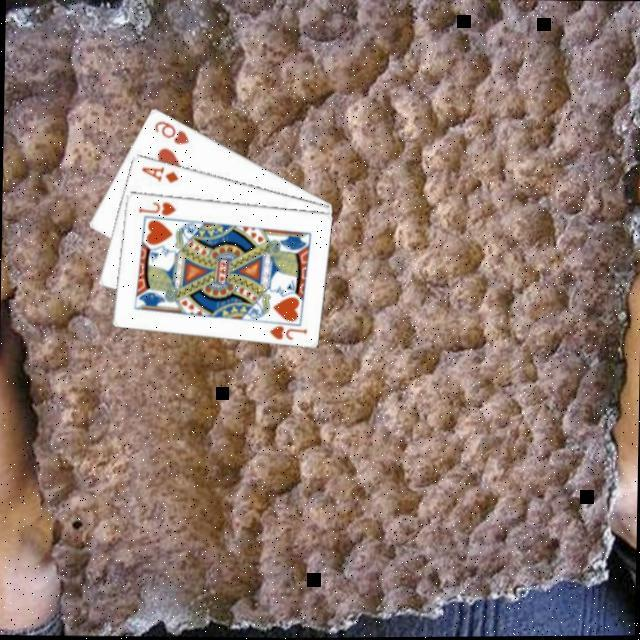6H: (149, 118, 191, 149)
AD: (137, 164, 180, 186)
JH: (264, 324, 308, 344), (134, 200, 177, 220)
